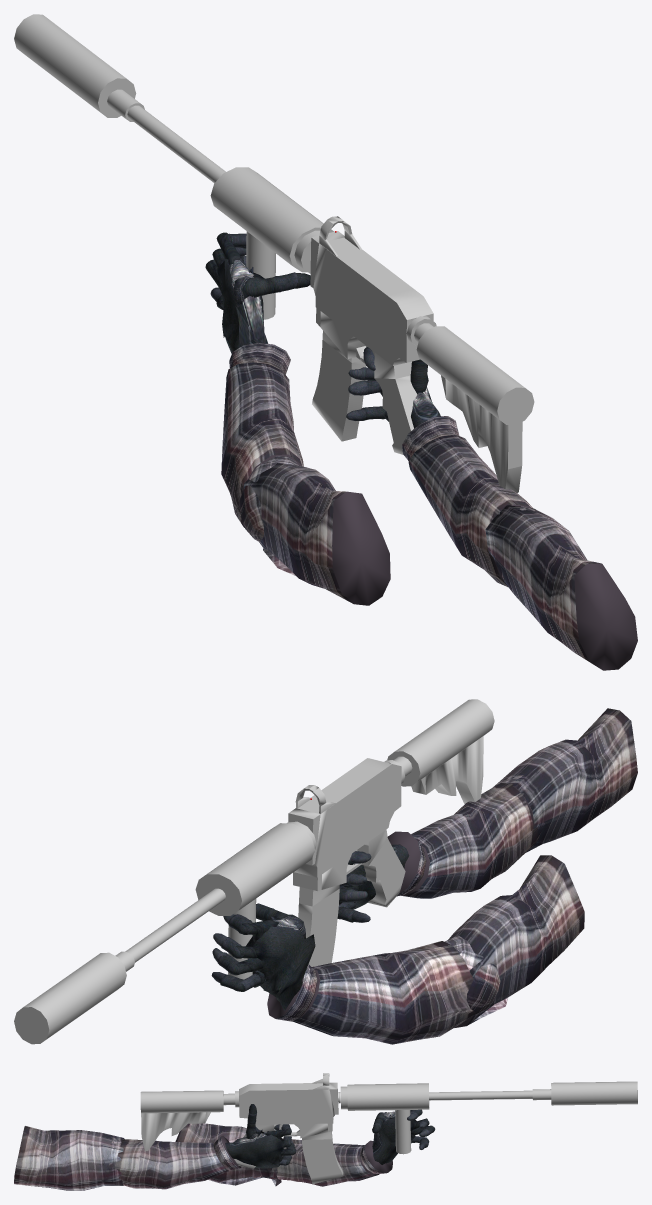
The model's file is m4sopmod_vfire.fbx.
3 views of the same model, one above another, from view 1: azimuth 30°, elevation 25°; view 2: azimuth 150°, elevation 25°; view 3: azimuth 270°, elevation 25° (orthographic). The views are drawn at different scales.
Visible parts, largest first — view 1: larm, rupperarm, m4_body, m4_stock, rforearm, m4_grip, lhand, m4_silencer, m4_clip, m4_pistolgrip, m4_barrel, m4_tommygrip; view 2: larm, rforearm, rupperarm, m4_body, lhand, m4_stock, m4_grip, m4_silencer, m4_clip, m4_pistolgrip, m4_barrel, m4_tommygrip (+2 smaller); view 3: rupperarm, rforearm, larm, m4_body, m4_stock, m4_grip, m4_silencer, lhand, m4_clip, rhand, m4_barrel, m4_tommygrip (+2 smaller).
Part boxes in pixels (x1,y1,x2,y2): larm: [221, 342, 390, 605]; rupperarm: [485, 505, 637, 670]; m4_body: [310, 231, 433, 365]; m4_stock: [406, 316, 534, 492]; rforearm: [402, 416, 532, 586]; m4_grip: [210, 167, 334, 273]; lhand: [205, 232, 310, 353]; m4_silencer: [14, 14, 136, 117]; m4_clip: [312, 331, 366, 441]; m4_pistolgrip: [374, 352, 424, 454]; m4_barrel: [107, 89, 225, 183]; m4_tommygrip: [246, 231, 275, 319]; larm: [267, 855, 584, 1044]; rforearm: [387, 783, 538, 898]; rupperarm: [493, 708, 637, 852]; m4_body: [288, 758, 401, 891]; lhand: [211, 903, 315, 1010]; m4_stock: [384, 699, 494, 803]; m4_grip: [195, 821, 316, 915]; m4_silencer: [14, 952, 126, 1044]; m4_clip: [298, 885, 339, 966]; m4_pistolgrip: [357, 829, 405, 907]; m4_barrel: [115, 888, 225, 971]; m4_tommygrip: [228, 898, 256, 979]; rupperarm: [14, 1126, 124, 1190]; rforearm: [114, 1136, 241, 1189]; larm: [175, 1123, 392, 1186]; m4_body: [239, 1082, 338, 1138]; m4_stock: [140, 1090, 239, 1151]; m4_grip: [338, 1083, 429, 1110]; m4_silencer: [551, 1081, 637, 1105]; lhand: [372, 1109, 435, 1164]; m4_clip: [302, 1131, 343, 1184]; rhand: [225, 1132, 283, 1168]; m4_barrel: [429, 1089, 551, 1100]; m4_tommygrip: [395, 1110, 411, 1154].
Bounding box in the file's own units: 9.28 × 13.54 × 54.85.
